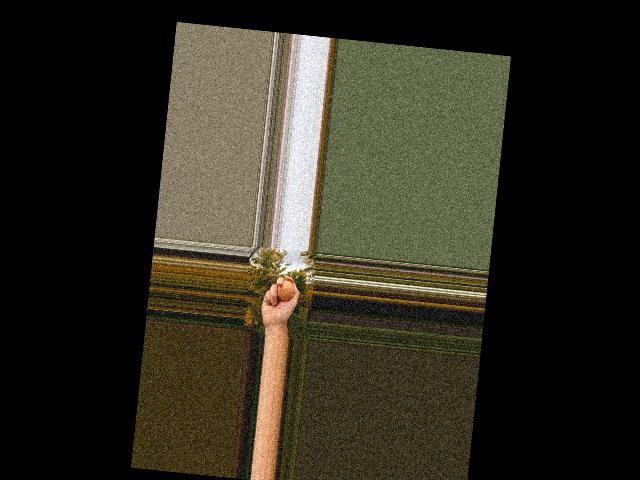egg: (275, 279, 294, 301)
